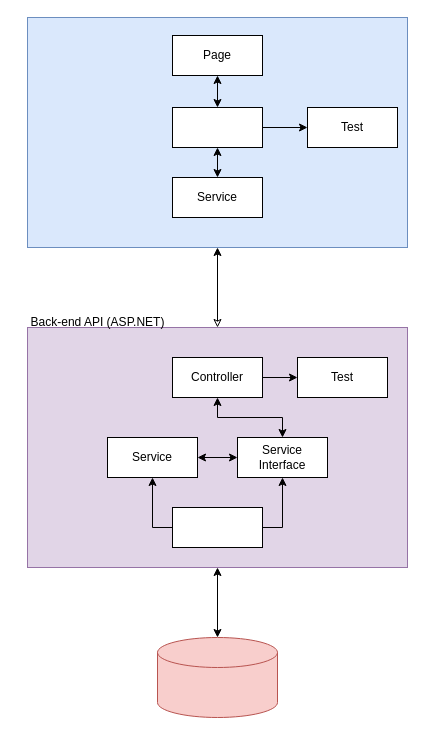
This 425x735 diagram has some shape labels left out. The shapes that lost their labels are listed below. From the top down, each one's centre as x and y in pixels, then its label:
At pixel 217 127: "Component(s)".
At pixel 217 527: "Model".
At pixel 217 677: "MongoDB Database (Extern)".
